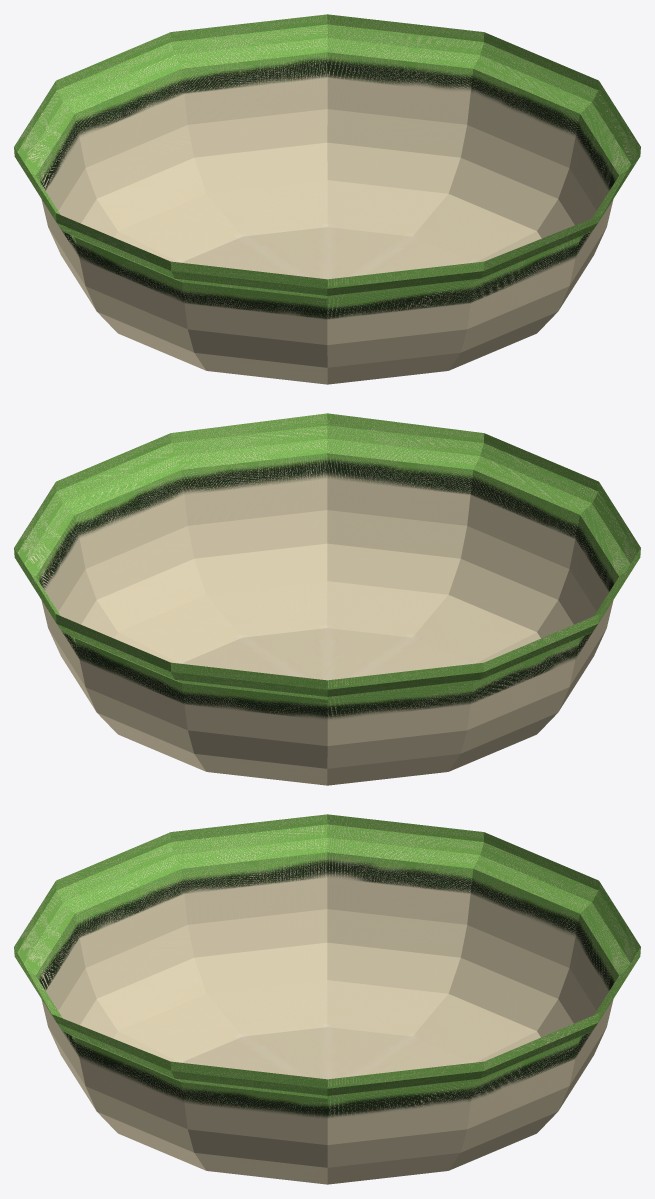
Rendered from nabe.fbx.
3 views of the same model, one above another, from view 1: azimuth 30°, elevation 25°; view 2: azimuth 150°, elevation 25°; view 3: azimuth 270°, elevation 25° (orthographic).
Visible parts, largest first — view 1: pSphere3; view 2: pSphere3; view 3: pSphere3.
Part boxes in pixels (x1,y1,x2,y2): pSphere3: (14, 14, 640, 384); pSphere3: (14, 413, 640, 785); pSphere3: (14, 814, 640, 1184).
Size of the model in its own units: 7.11 by 1.9 by 7.11.
